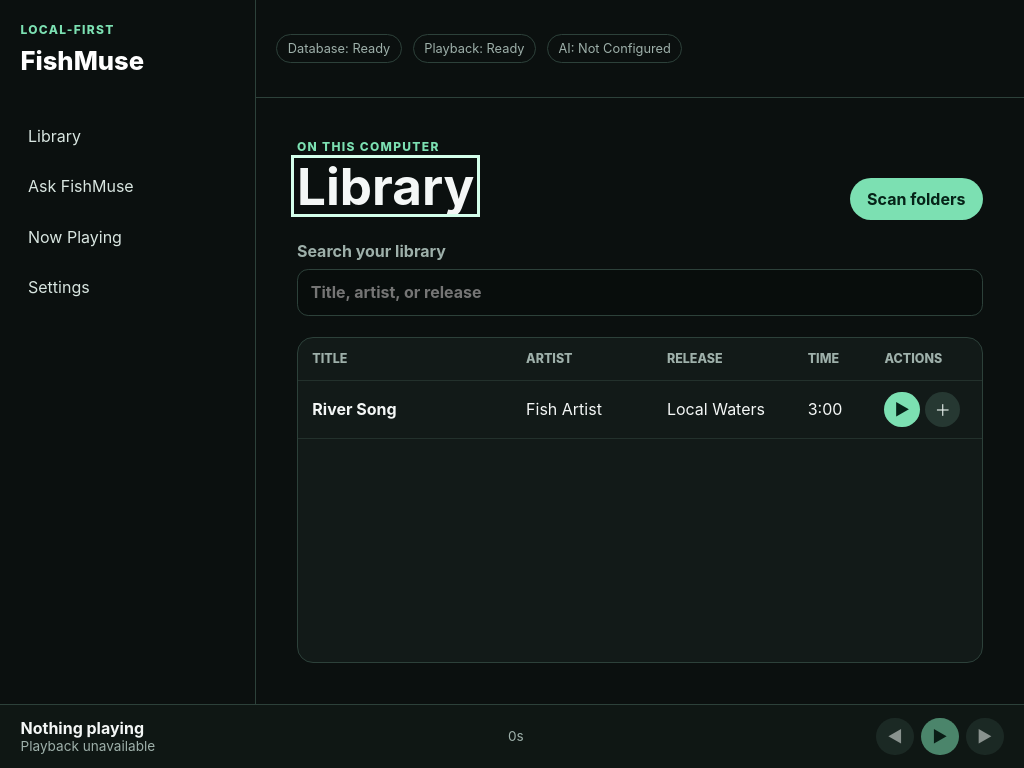
Test case: local library › reports automatic playback startup failure without naming its implementation
Click the button named "Play River Song".
click(902, 409)  # box [884, 392, 920, 427]
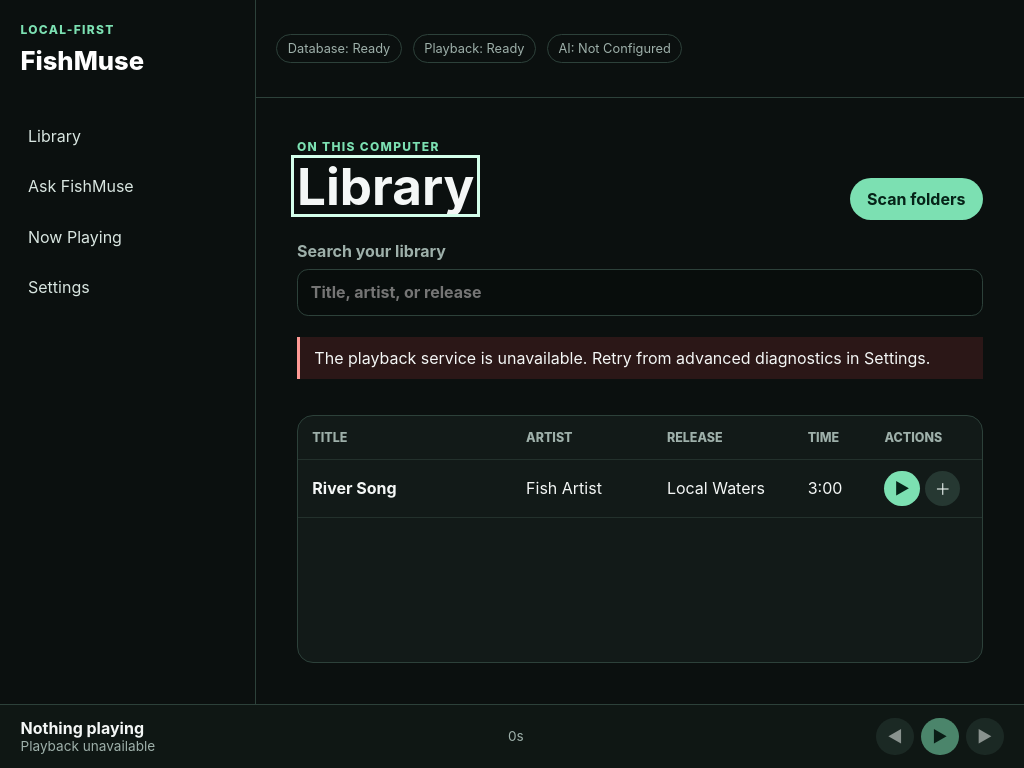
Check: the message shows "playback service is unavailable", box [314, 348, 930, 368]
Click the button named "Play River Song".
click(902, 488)  # box [884, 470, 920, 506]
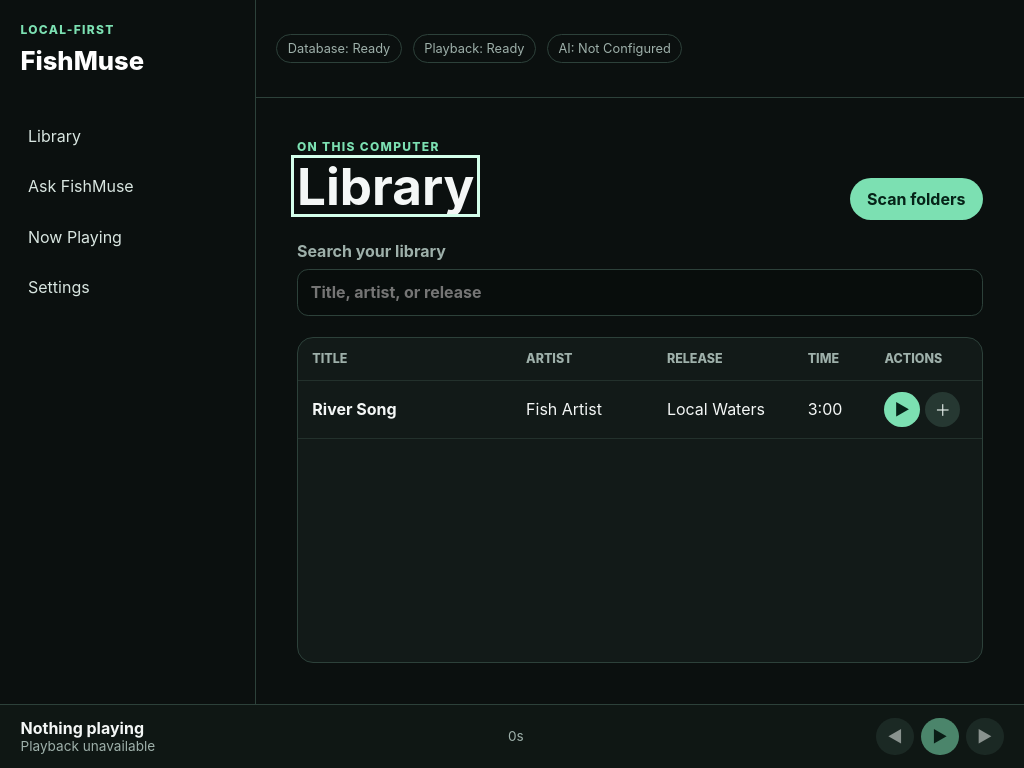
Check: the message is gone
